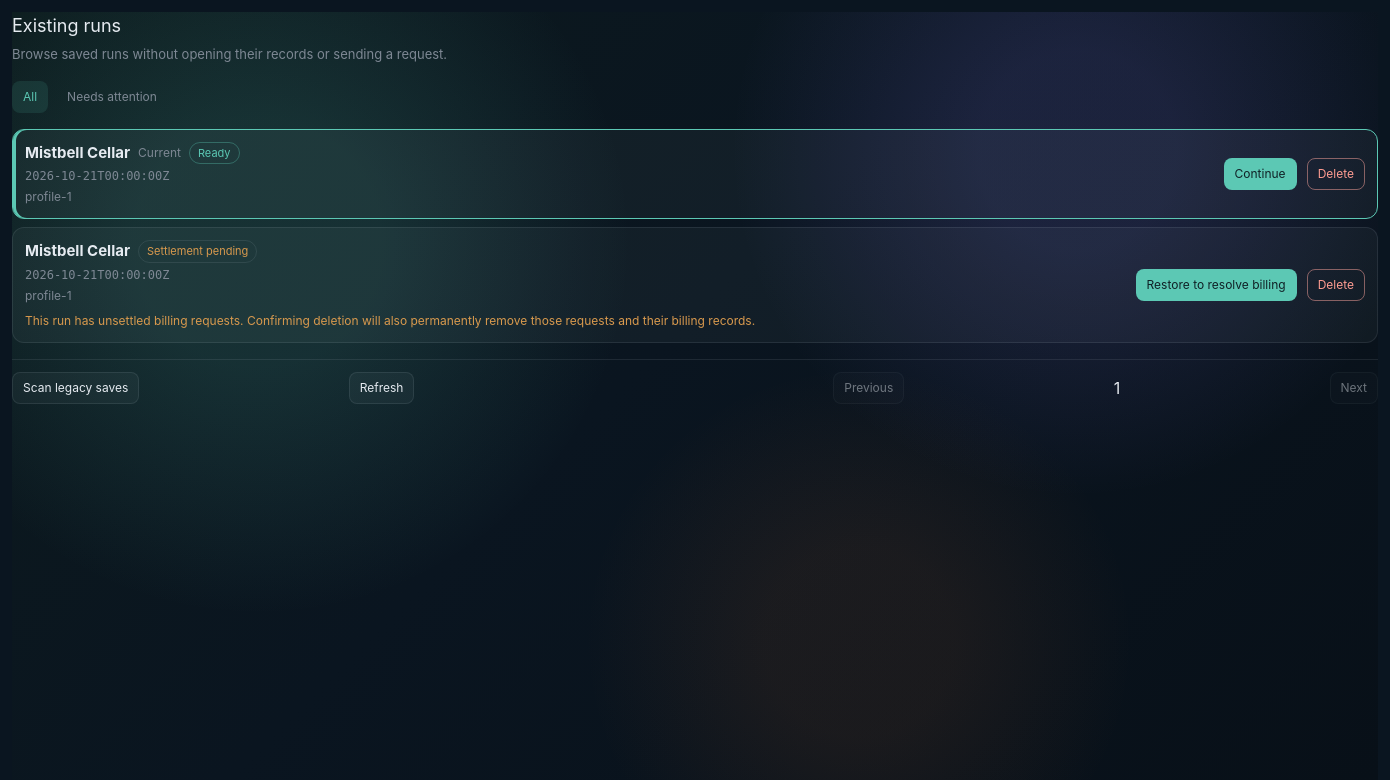
Test: embeds run summaries, highlights the active run and warns before deleting unsettled billing
Expected: the number of elements with class "run-catalog-row" is 2, [12,128,1378,219]; [12,227,1378,344]
Expected: the 1st element with class "run-catalog-row" is shown, [12,128,1378,219]
Click the button "Needs attention" at (112, 96), box [56,80,168,112]
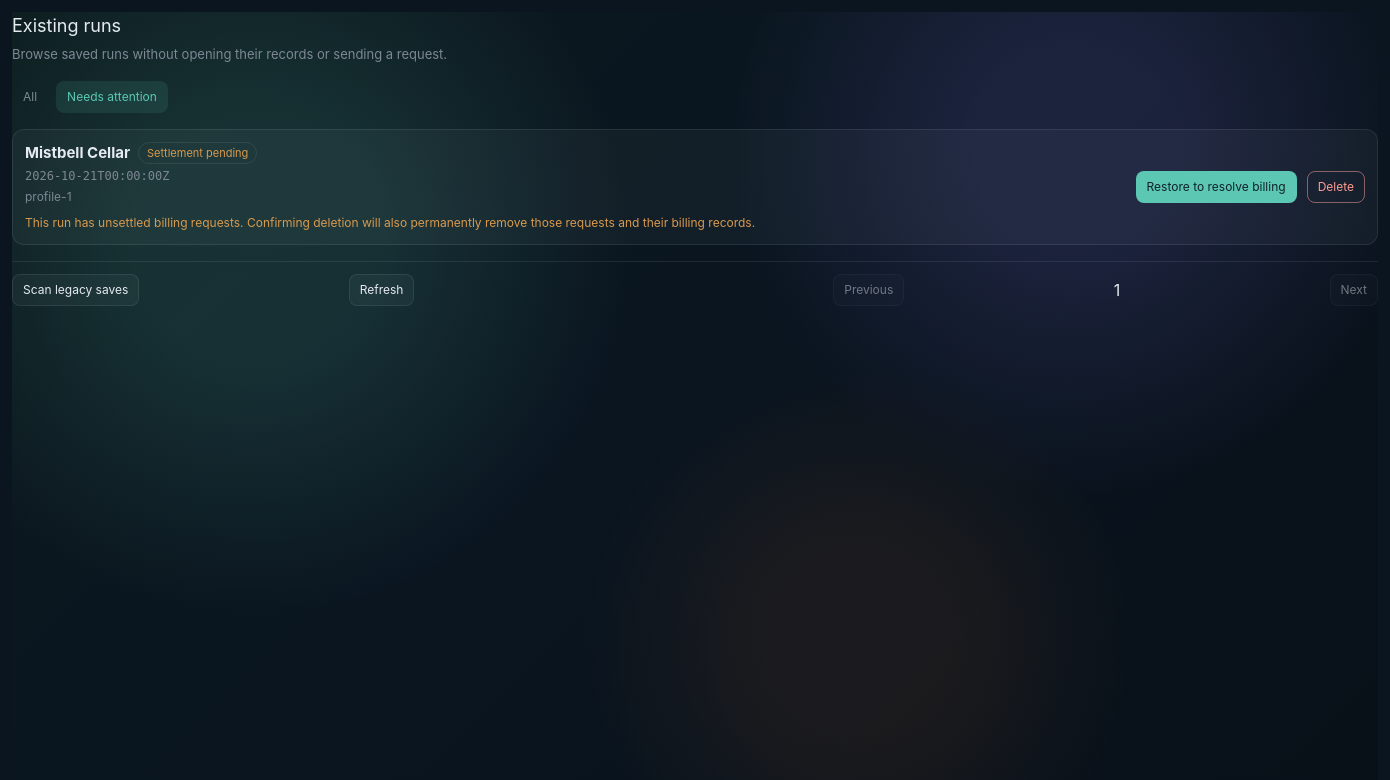
Expected: the number of elements with class "run-catalog-row" is 1, [12,128,1378,245]
